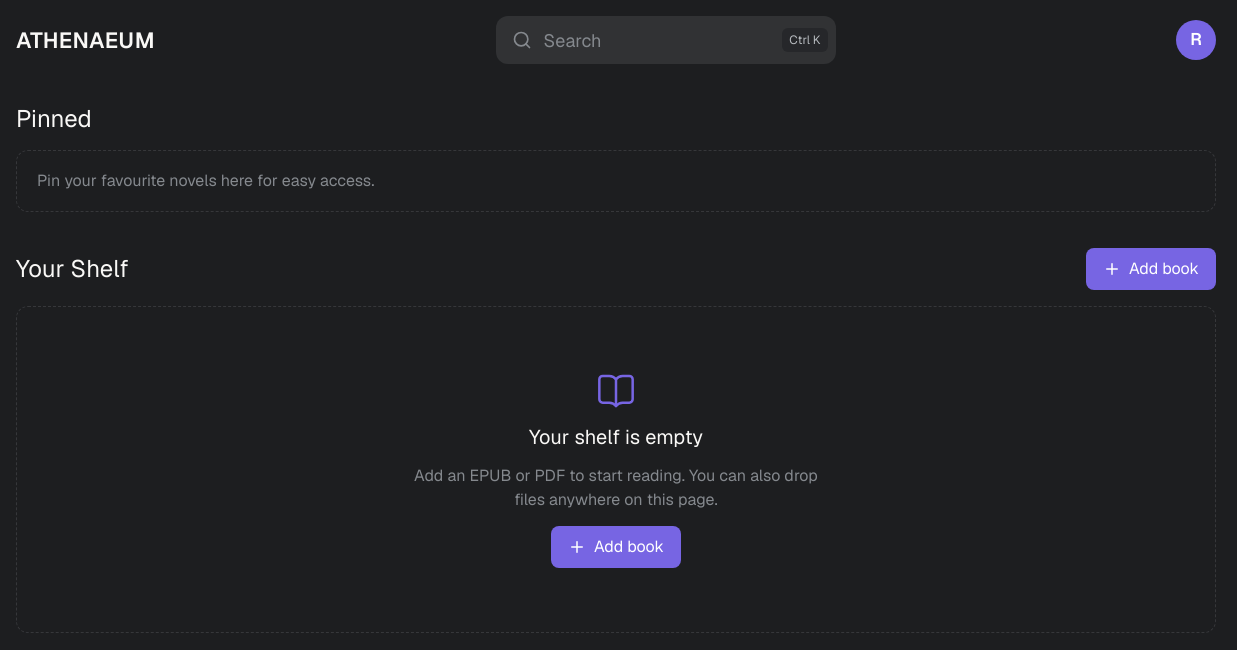
Test: sign out › signs out from the account menu and returns to the login page
Click the button named "Account menu" at [1196, 40], box [1176,20,1216,60]
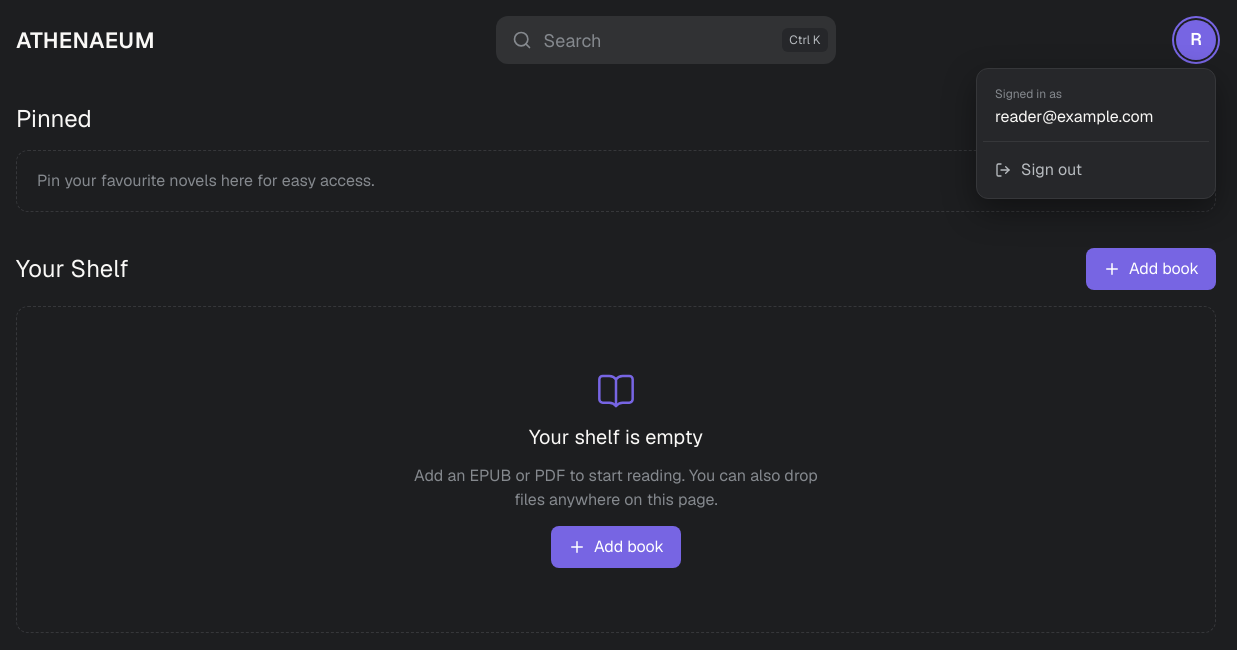
Check: the menu shows "reader@example.com", box [995,106,1154,127]
Click the menu item "Sign out" at [1096, 170], box [983,148,1209,192]
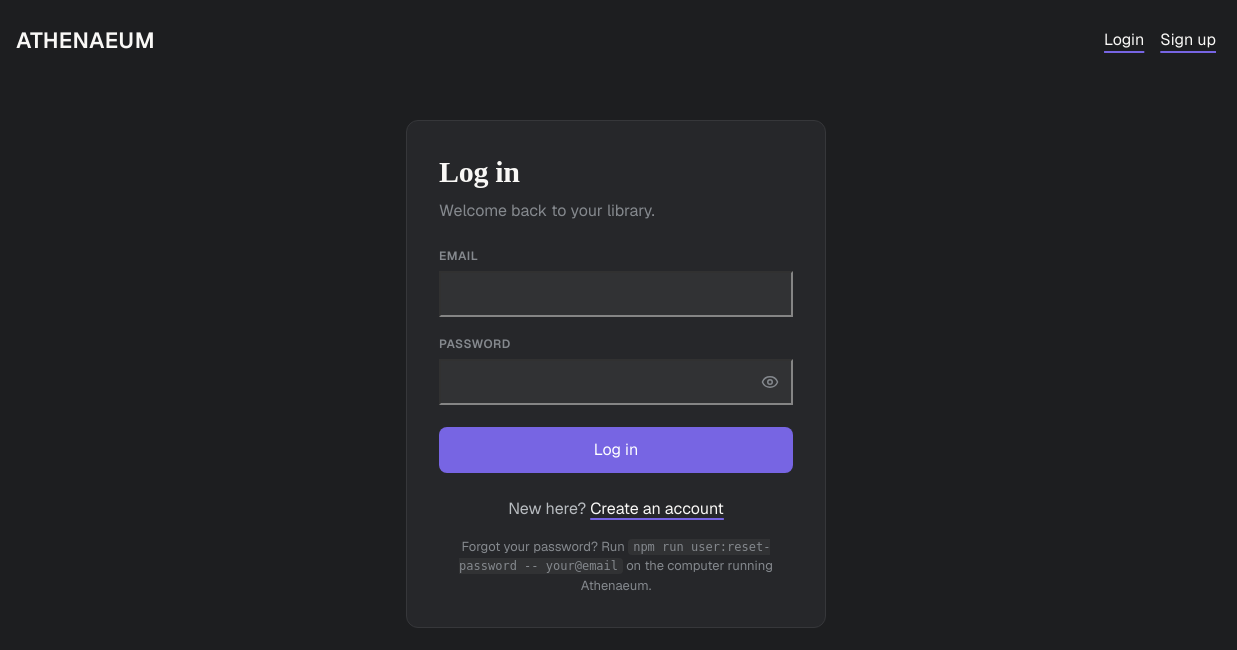
Check: the heading "Log in" is shown, box [439,155,520,188]
